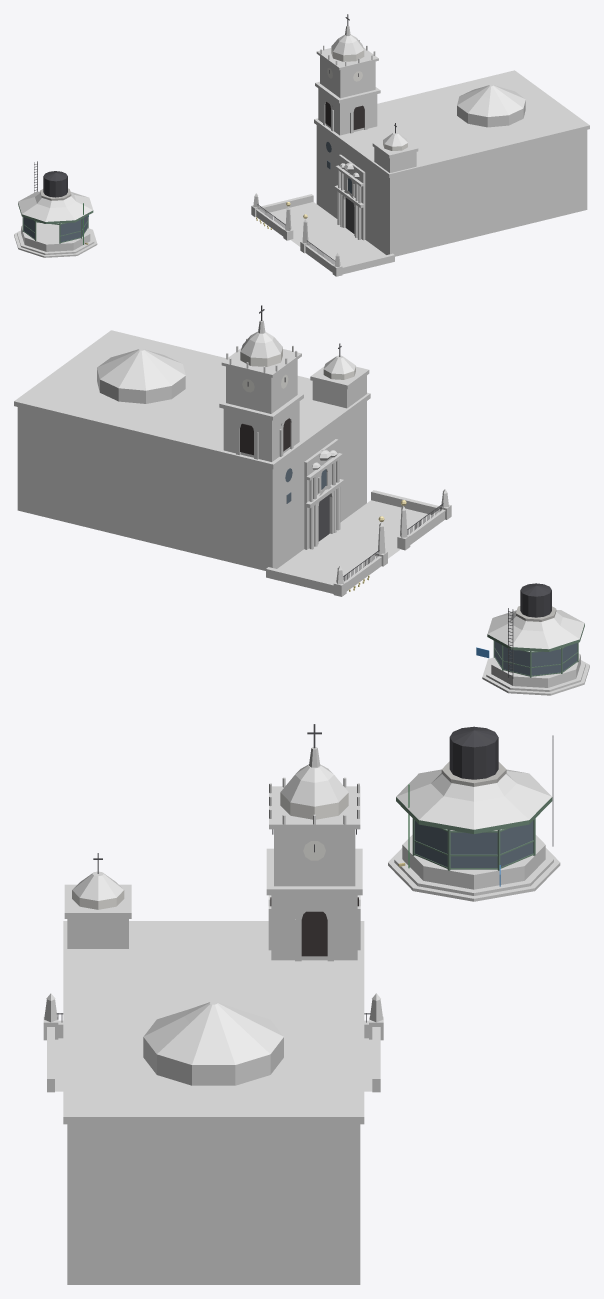
File: kiosco_iglesia.glb
3 renders of one model, top to bottom at view 1: azimuth 30°, elevation 25°; view 2: azimuth 150°, elevation 25°; view 3: azimuth 270°, elevation 25°, orthographic. The views are drawn at different scales.
Parts seen in each view (by area): view 1: Parroquia, Atrio, Kiosco_001; view 2: Parroquia, Atrio, Kiosco_001; view 3: Parroquia, Kiosco_001, Atrio.
Boxes of the visible parts, x1=… form: Parroquia: x1=314, y1=14, x2=589, y2=256; Atrio: x1=251, y1=193, x2=394, y2=276; Kiosco_001: x1=14, y1=161, x2=97, y2=257; Parroquia: x1=14, y1=305, x2=370, y2=570; Atrio: x1=266, y1=489, x2=451, y2=596; Kiosco_001: x1=476, y1=583, x2=589, y2=695; Parroquia: x1=63, y1=724, x2=364, y2=1284; Kiosco_001: x1=388, y1=726, x2=560, y2=901; Atrio: x1=43, y1=993, x2=383, y2=1092.
Size of what is drawn, in the model's own units: 66.55 by 26.25 by 31.75.
